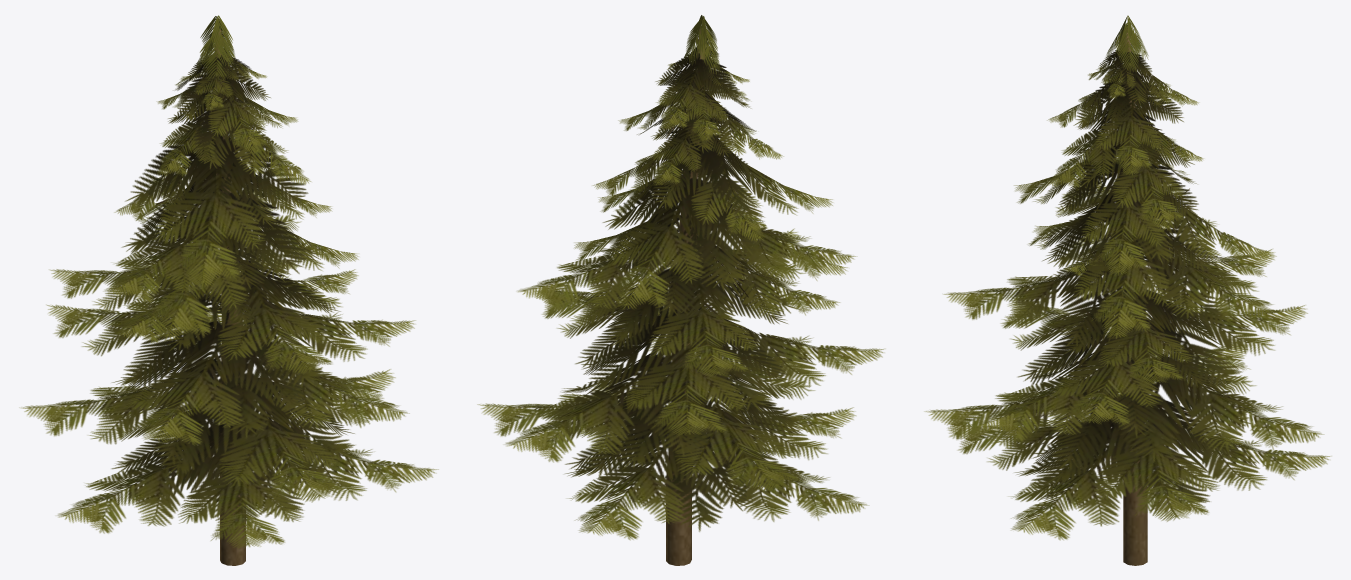
File: tree-pine.lod0.glb
The picture shows the model from 3 angles, left to right: view 1: azimuth 30°, elevation 25°; view 2: azimuth 150°, elevation 25°; view 3: azimuth 270°, elevation 25°; orthographic projection. The views are drawn at different scales.
Parts seen in each view (by area): view 1: Leaves/001_Leavs_0, Trank.001_Trank_0; view 2: Leaves/001_Leavs_0, Trank.001_Trank_0; view 3: Leaves/001_Leavs_0, Trank.001_Trank_0.
Boxes of the visible parts, <box> form: Leaves/001_Leavs_0: <box>19,15,438,548</box>; Trank.001_Trank_0: <box>214,29,245,565</box>; Leaves/001_Leavs_0: <box>477,15,883,540</box>; Trank.001_Trank_0: <box>666,28,705,565</box>; Leaves/001_Leavs_0: <box>924,15,1331,540</box>; Trank.001_Trank_0: <box>1121,28,1147,565</box>.
Size of the model in its own units: 11.99 by 17 by 11.99.
2 materials, 2 textured.
